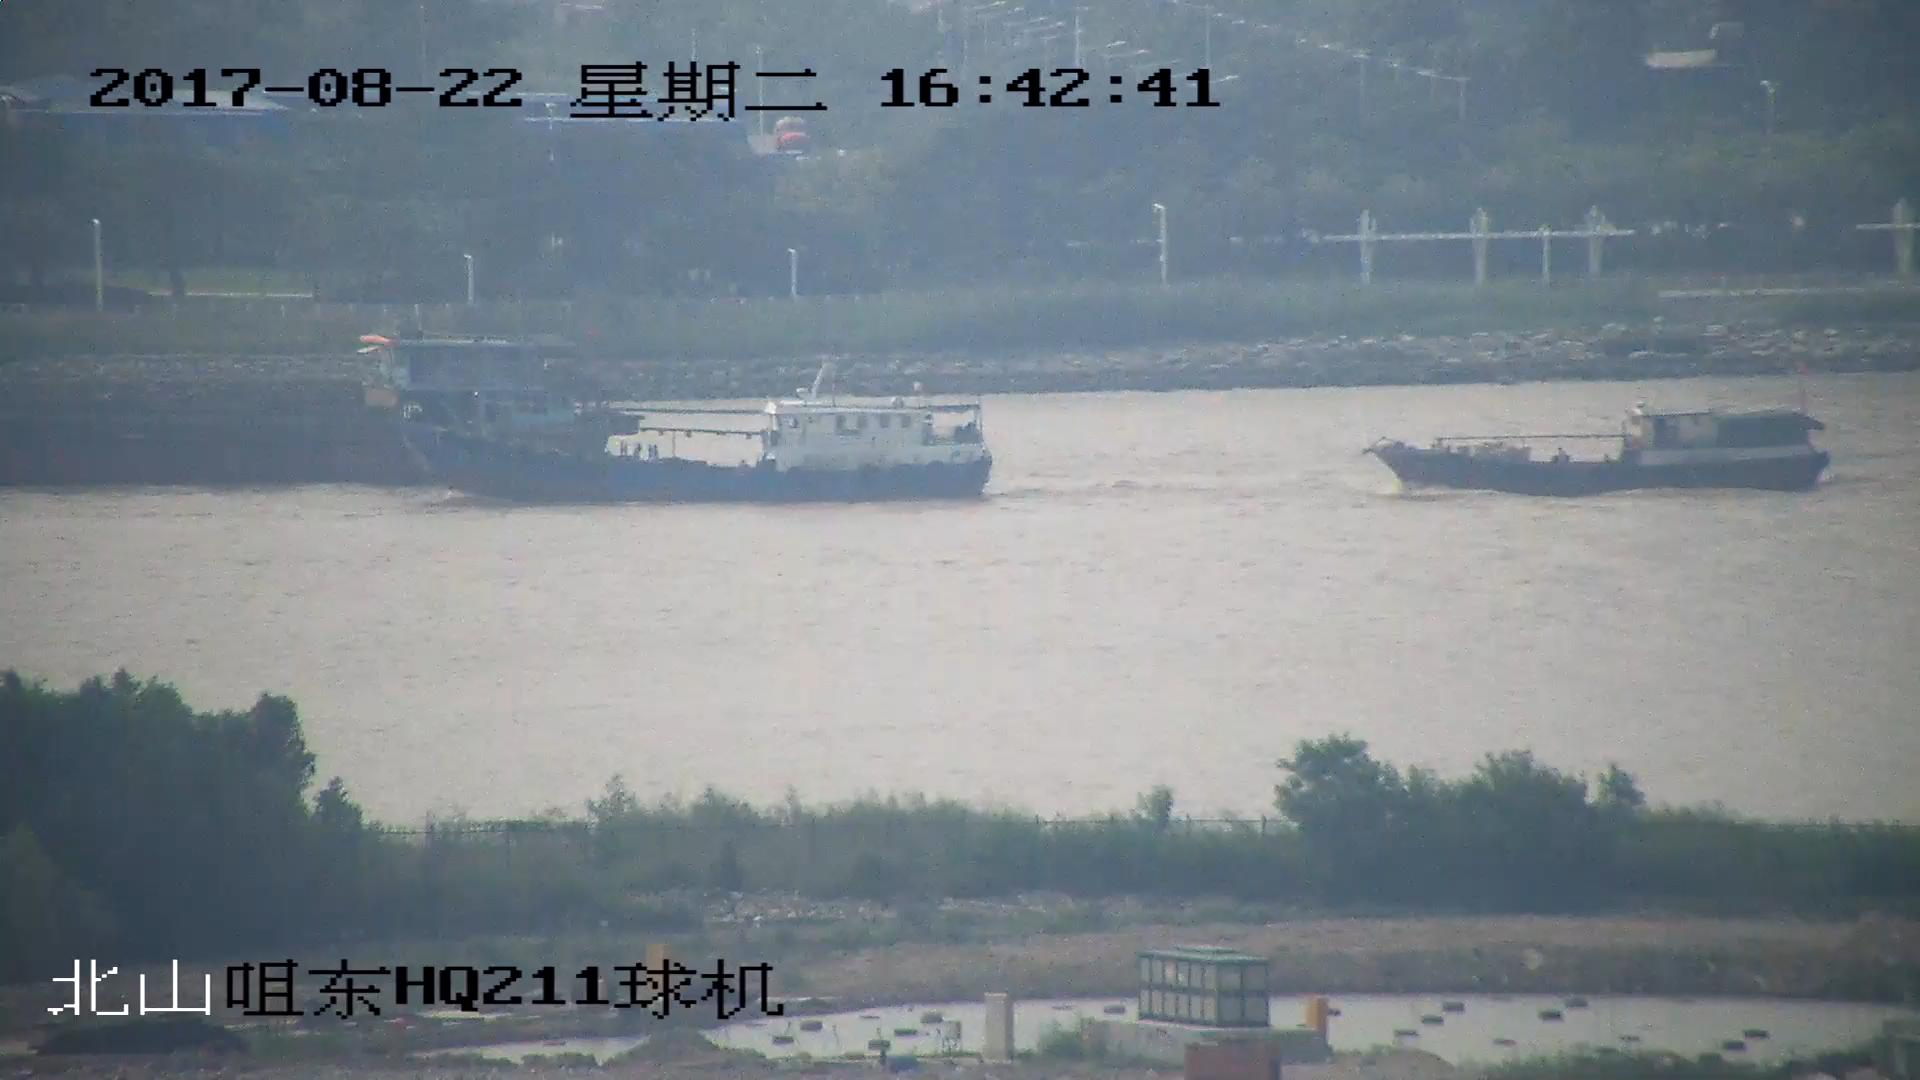bulk cargo carrier: (1, 332, 604, 482)
fishing boat: (399, 374, 993, 505), (1374, 410, 1835, 491)
